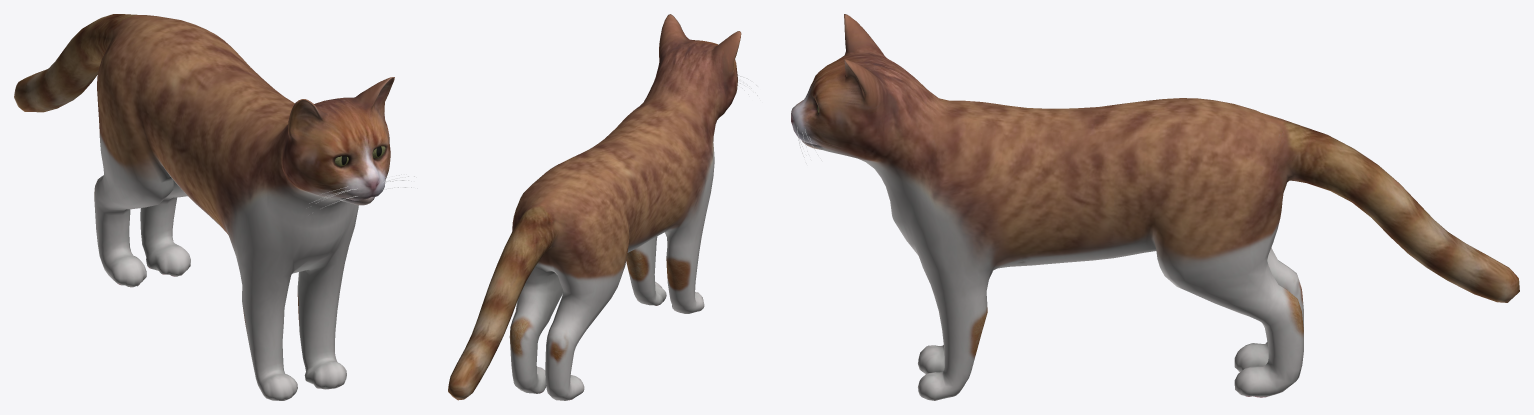
Rendered from Colourpoint(Himalayan).glb.
The picture shows the model from 3 angles, left to right: view 1: azimuth 30°, elevation 25°; view 2: azimuth 150°, elevation 25°; view 3: azimuth 270°, elevation 25°; orthographic projection. The views are drawn at different scales.
Parts seen in each view (by area): view 1: high_poly; view 2: high_poly; view 3: high_poly.
Boxes of the visible parts, x1,y1,x2,y2 form: high_poly: (14,14,394,400); high_poly: (448,14,741,400); high_poly: (791,14,1519,400).
Bounding box in the file's own units: 0.8994 × 2.35 × 4.46.
Materials: 3 (2 with a texture image).
